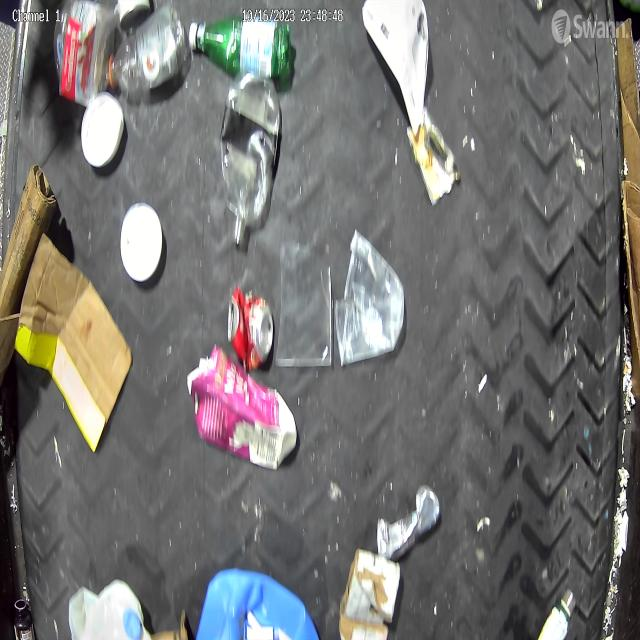can: (407, 107, 461, 206), (378, 484, 441, 564), (228, 282, 276, 369), (116, 1, 151, 31)
milk_jug: (71, 581, 146, 640)
non_white_jug: (187, 345, 297, 470), (197, 567, 325, 640)
plastic_bottle: (220, 73, 280, 246), (106, 8, 189, 94)
